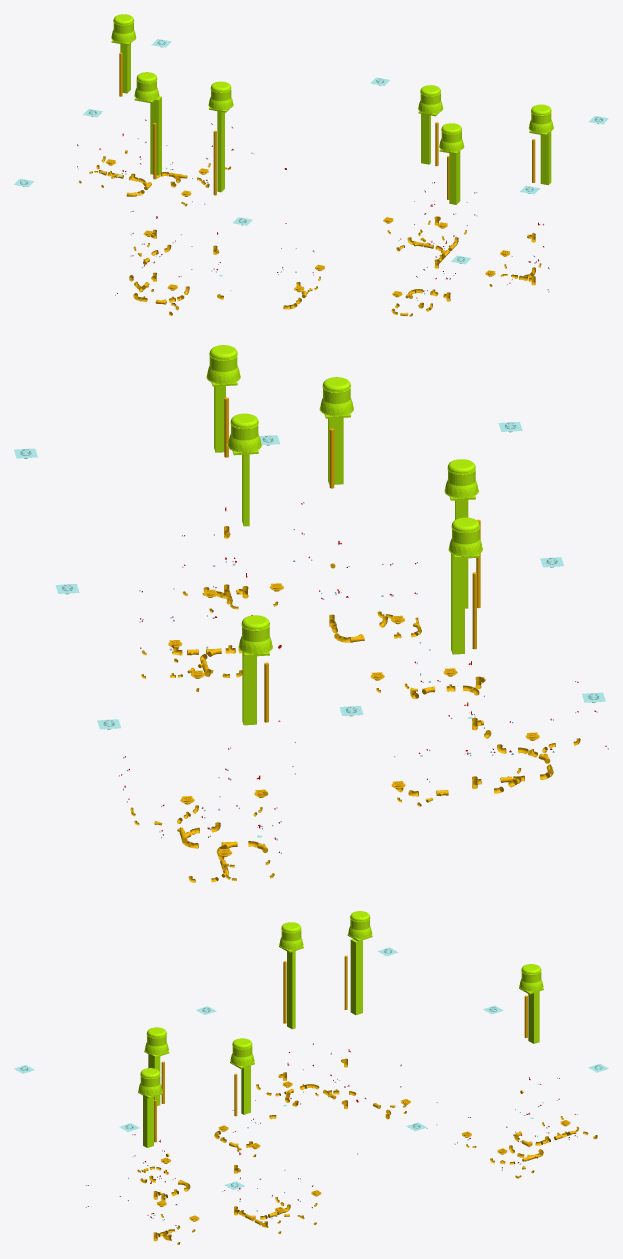
3 views of the same model, one above another, from view 1: azimuth 30°, elevation 25°; view 2: azimuth 150°, elevation 25°; view 3: azimuth 270°, elevation 25° (orthographic). The views are drawn at different scales.
Parts seen in each view (by area): view 1: 2UKKuBgtL3PgpefutLS1ZT, 0_E4PBRUrDigyyShQGddDA, 0_E4PBRUrDigyyShQGddut, 2YA583vK198h8dAJ8_N2rK, 0_E4PBRUrDigyyShQGddFs, 0_E4PBRUrDigyyShQGddA8, 0_E4PBRUrDigyyShQGddDo, 1CnZefMq532RU1wmnu0S7Y, 31G0cA2TbBSOh$NG9gcM_8, 1pIqkDvwvDowWZ$JL5HR3K, 1CnZefMq532RU1wmnu0Sn3, 27cshCllX2g8wGPsiuUuAt; view 2: 2UKKuBgtL3PgpefutLS1ZT, 2YA583vK198h8dAJ8_N2rK, 0_E4PBRUrDigyyShQGddut, 0_E4PBRUrDigyyShQGddDA, 0_E4PBRUrDigyyShQGddA8, 0_E4PBRUrDigyyShQGddFs, 0_E4PBRUrDigyyShQGddDo, 27cshCllX2g8wGPsiuUuAt, 31G0cA2TbBSOh$NG9gcM_8, 1pIqkDvwvDowWZ$JL5HR3K; view 3: 2UKKuBgtL3PgpefutLS1ZT, 1CnZefMq532RU1wmnu0S7Y, 0_E4PBRUrDigyyShQGddut, 0_E4PBRUrDigyyShQGddDo, 2YA583vK198h8dAJ8_N2rK, 0_E4PBRUrDigyyShQGddA8, 27cshCllX2g8wGPsiuUuAt, 0_E4PBRUrDigyyShQGddFs, 0_E4PBRUrDigyyShQGddDA, 1pIqkDvwvDowWZ$JL5HR3K, 1CnZefMq532RU1wmnu0Sn3.
Boxes of the visible parts, <box> form: 2UKKuBgtL3PgpefutLS1ZT: <box>150,96,161,175</box>; 0_E4PBRUrDigyyShQGddDA: <box>111,14,136,45</box>; 0_E4PBRUrDigyyShQGddut: <box>208,81,233,112</box>; 2YA583vK198h8dAJ8_N2rK: <box>528,104,553,135</box>; 0_E4PBRUrDigyyShQGddFs: <box>134,72,159,103</box>; 0_E4PBRUrDigyyShQGddA8: <box>439,123,464,154</box>; 0_E4PBRUrDigyyShQGddDo: <box>418,85,443,116</box>; 1CnZefMq532RU1wmnu0S7Y: <box>217,111,224,191</box>; 31G0cA2TbBSOh$NG9gcM_8: <box>449,151,460,204</box>; 1pIqkDvwvDowWZ$JL5HR3K: <box>540,131,551,184</box>; 1CnZefMq532RU1wmnu0Sn3: <box>421,114,430,164</box>; 27cshCllX2g8wGPsiuUuAt: <box>120,43,130,93</box>; 2UKKuBgtL3PgpefutLS1ZT: <box>451,553,464,654</box>; 2YA583vK198h8dAJ8_N2rK: <box>206,345,240,386</box>; 0_E4PBRUrDigyyShQGddut: <box>444,459,478,500</box>; 0_E4PBRUrDigyyShQGddDA: <box>238,615,272,656</box>; 0_E4PBRUrDigyyShQGddA8: <box>319,377,353,418</box>; 0_E4PBRUrDigyyShQGddFs: <box>448,517,482,558</box>; 0_E4PBRUrDigyyShQGddDo: <box>227,413,261,455</box>; 27cshCllX2g8wGPsiuUuAt: <box>242,652,256,724</box>; 31G0cA2TbBSOh$NG9gcM_8: <box>328,418,343,484</box>; 1pIqkDvwvDowWZ$JL5HR3K: <box>214,386,225,452</box>; 2UKKuBgtL3PgpefutLS1ZT: <box>350,939,362,1014</box>; 1CnZefMq532RU1wmnu0S7Y: <box>287,951,295,1029</box>; 0_E4PBRUrDigyyShQGddut: <box>279,922,303,952</box>; 0_E4PBRUrDigyyShQGddDo: <box>230,1038,254,1068</box>; 2YA583vK198h8dAJ8_N2rK: <box>138,1068,162,1098</box>; 0_E4PBRUrDigyyShQGddA8: <box>144,1027,169,1057</box>; 27cshCllX2g8wGPsiuUuAt: <box>528,990,539,1043</box>; 0_E4PBRUrDigyyShQGddFs: <box>347,911,372,941</box>; 0_E4PBRUrDigyyShQGddDA: <box>519,964,543,994</box>; 1pIqkDvwvDowWZ$JL5HR3K: <box>143,1095,153,1147</box>; 1CnZefMq532RU1wmnu0Sn3: <box>241,1065,250,1114</box>.
Size of the model in its own units: 19.56 by 7.55 by 20.27.
